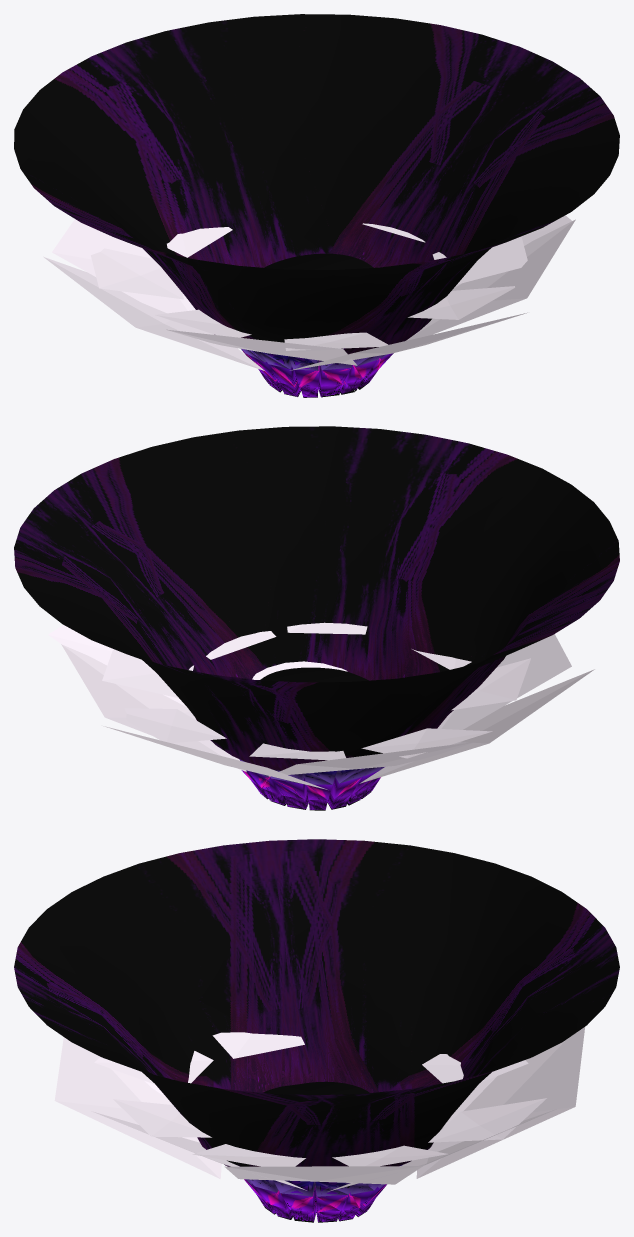
File: goh_cellA.dae
3 views of the same model, one above another, from view 1: azimuth 30°, elevation 25°; view 2: azimuth 150°, elevation 25°; view 3: azimuth 270°, elevation 25° (orthographic).
Parts seen in each view (by area): view 1: Mesh; view 2: Mesh; view 3: Mesh.
Boxes of the visible parts, <box> form: Mesh: <box>14,14,619,397</box>; Mesh: <box>14,426,619,810</box>; Mesh: <box>14,839,619,1222</box>.
Size of the model in its own units: 0.1208 by 0.1208 by 0.0513.
Materials: 1 (1 with a texture image).
